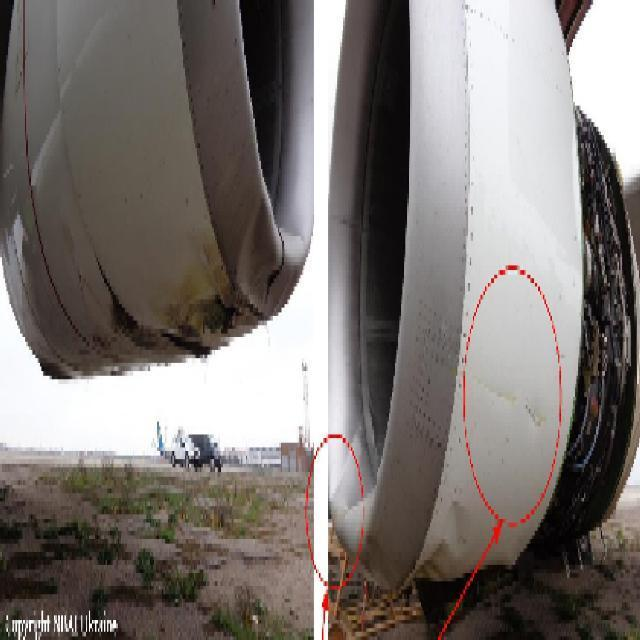crack: (522, 398, 543, 430)
dent: (416, 502, 471, 584)
